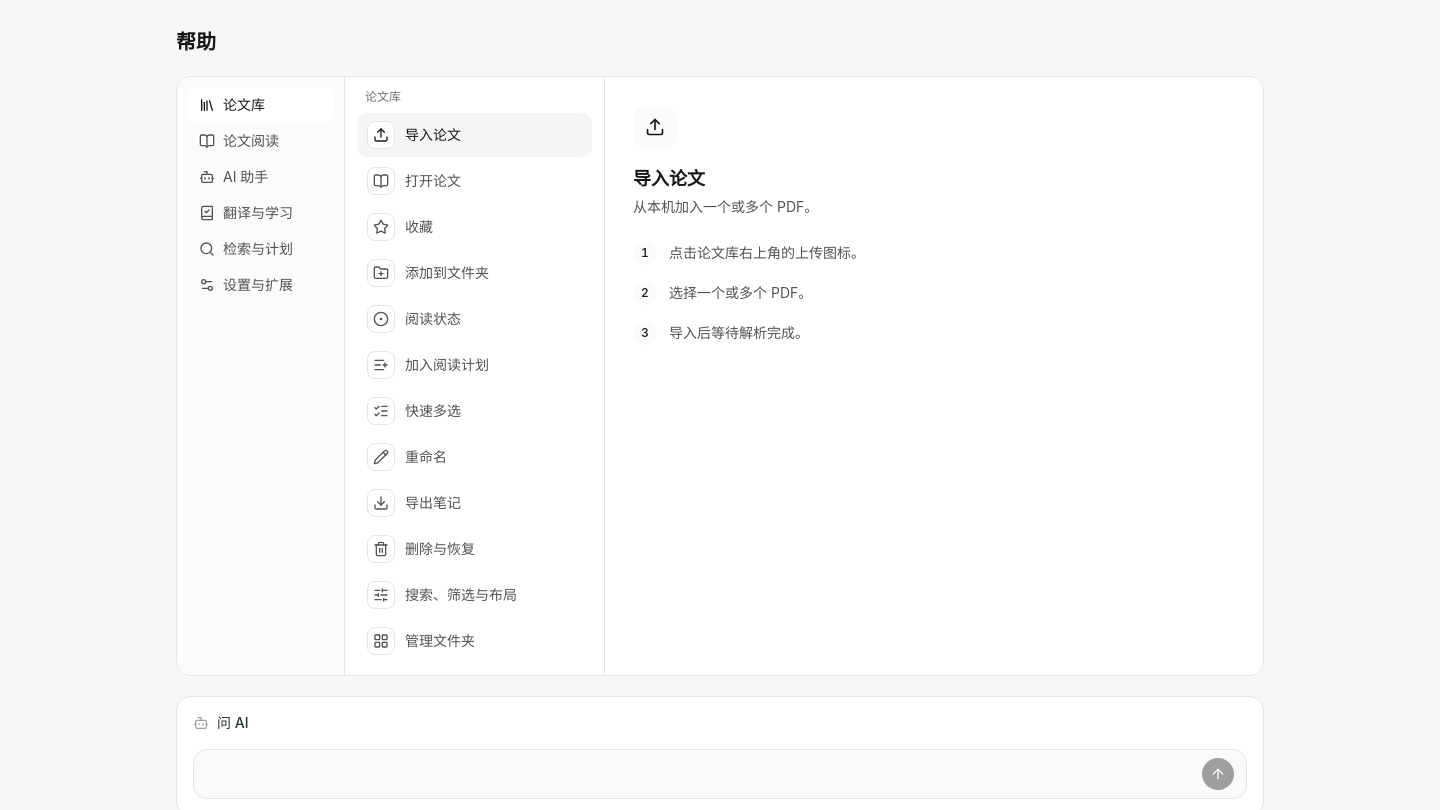
it: HelpPage › switches between complete feature categories
The image size is (1440, 810).
Click the button "翻译与学习".
click(260, 213)  # box x1=187 y1=195 x2=334 y2=231
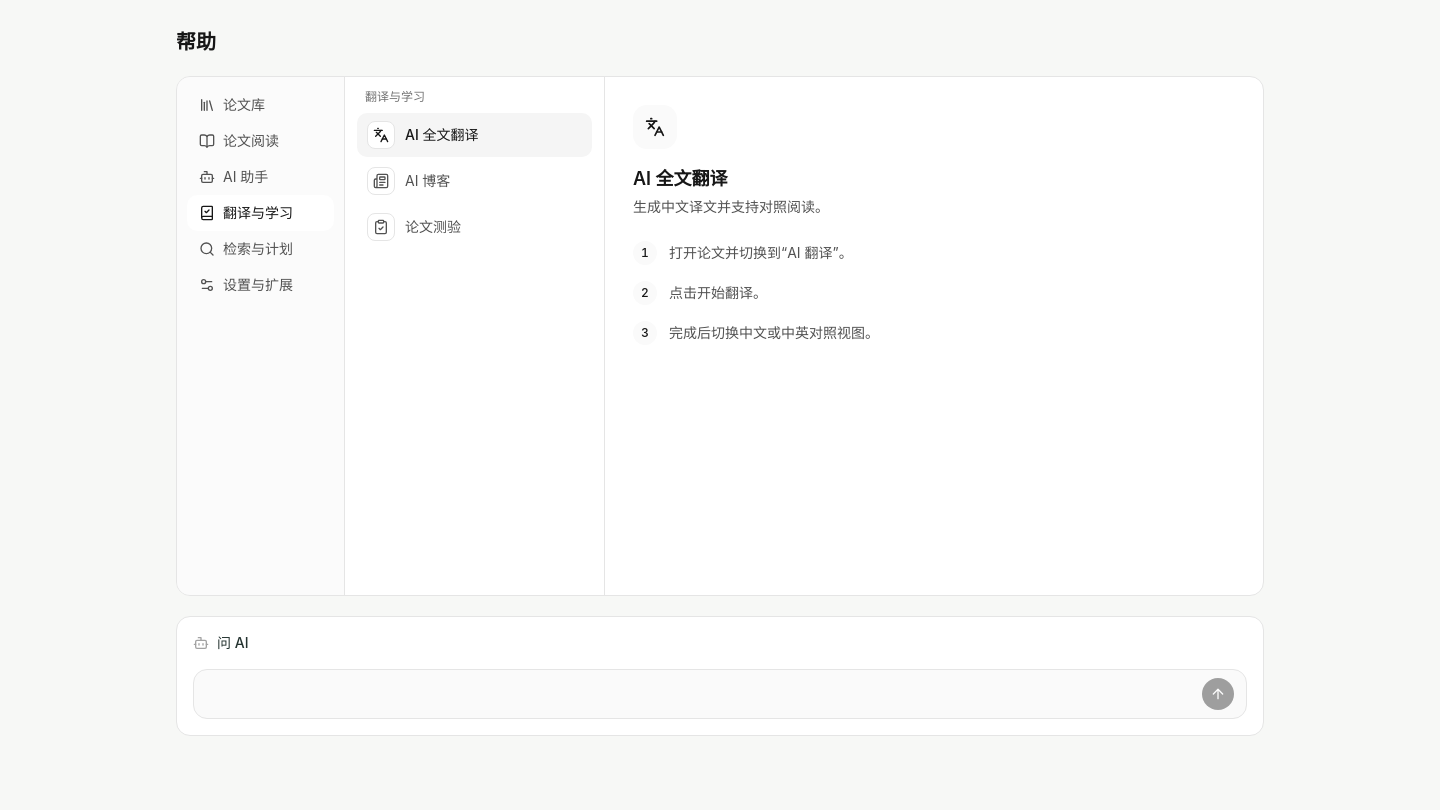
Check: the button "AI 全文翻译" is shown, box x1=357 y1=113 x2=592 y2=157
Check: the button "AI 博客" is shown, box x1=357 y1=159 x2=592 y2=203
Check: the button "论文测验" is shown, box x1=357 y1=205 x2=592 y2=249
